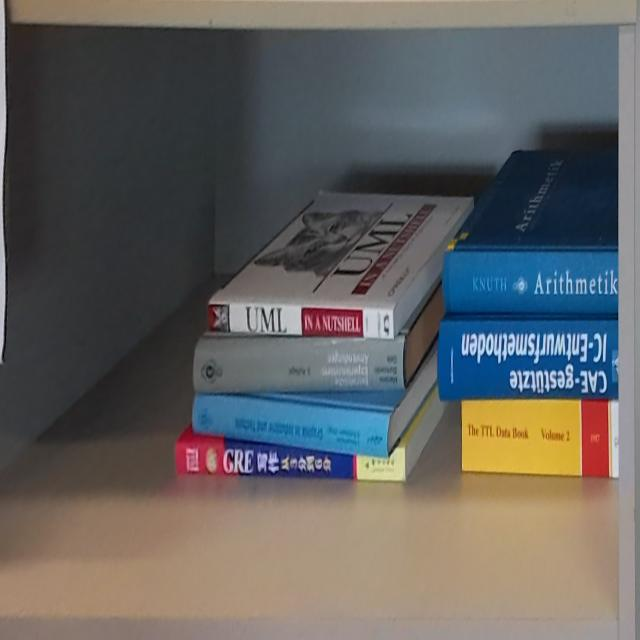Book Spine: (435, 319, 618, 406), (191, 396, 392, 462), (441, 247, 618, 317), (193, 341, 408, 395), (461, 403, 619, 474), (175, 445, 409, 478), (207, 302, 394, 342)
